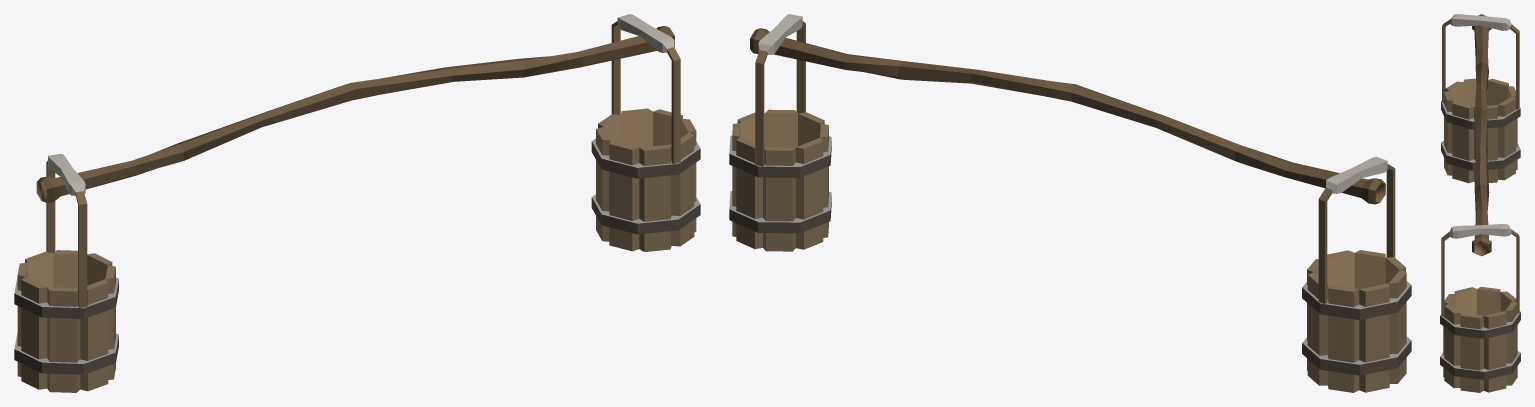
The model's file is SM_Prop_Bucket_Pole_01.fbx.
3 renders of one model, left to right at view 1: azimuth 30°, elevation 25°; view 2: azimuth 150°, elevation 25°; view 3: azimuth 270°, elevation 25°, orthographic. The views are drawn at different scales.
Parts seen in each view (by area): view 1: SM_Prop_Bucket_Pole_01; view 2: SM_Prop_Bucket_Pole_01; view 3: SM_Prop_Bucket_Pole_01.
Part boxes in pixels (x1,y1,x2,y2): SM_Prop_Bucket_Pole_01: (14,14,700,392); SM_Prop_Bucket_Pole_01: (729,14,1411,392); SM_Prop_Bucket_Pole_01: (1440,14,1520,392).
Size of the model in its own units: 0.0255 by 0.00795 by 0.00359.
Materials: 1 (1 with a texture image).
